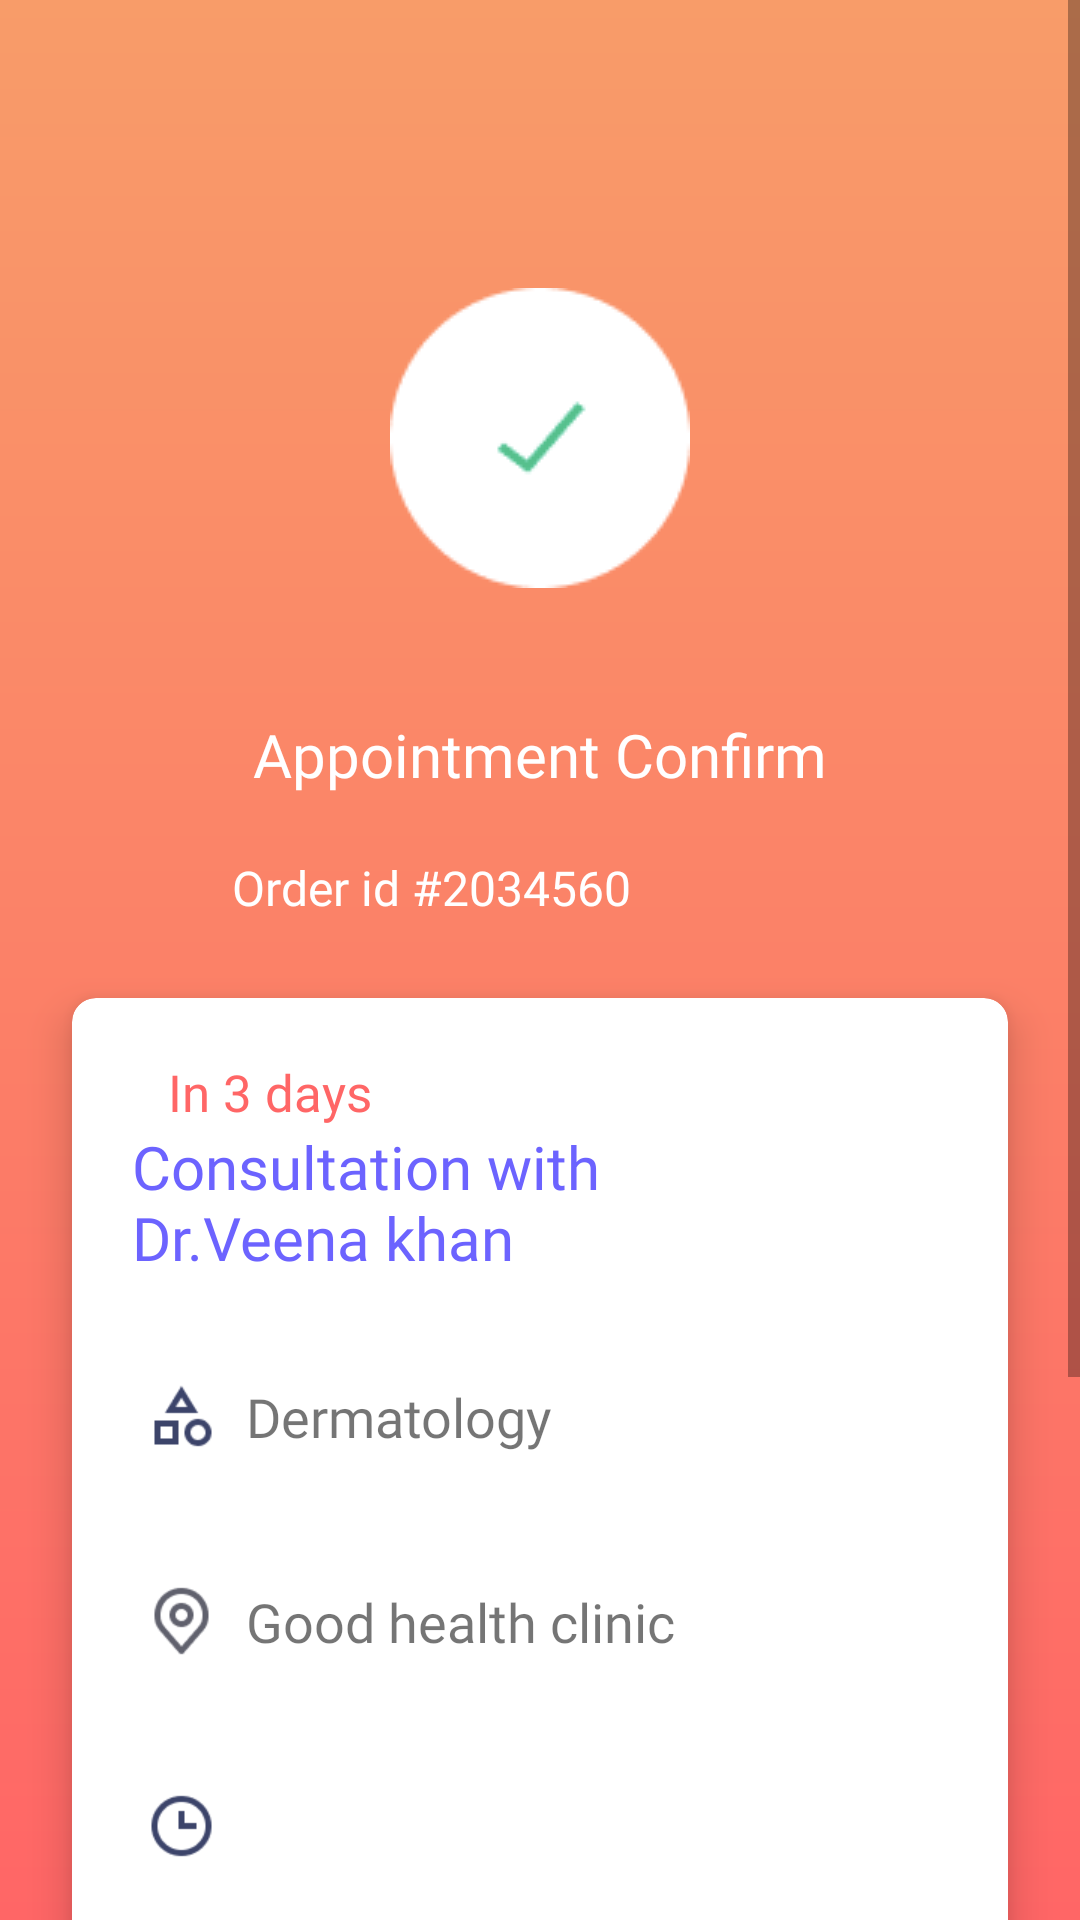

Screen size 1080 × 1920. Icon name, then its box in pixels as (x1, y1, x2, y2):
category: (154, 1386, 212, 1447)
confirmcircle: (390, 288, 690, 588)
location: (154, 1587, 209, 1654)
time: (151, 1795, 212, 1857)
